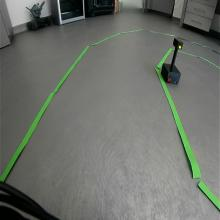green: (173, 36, 183, 50)
